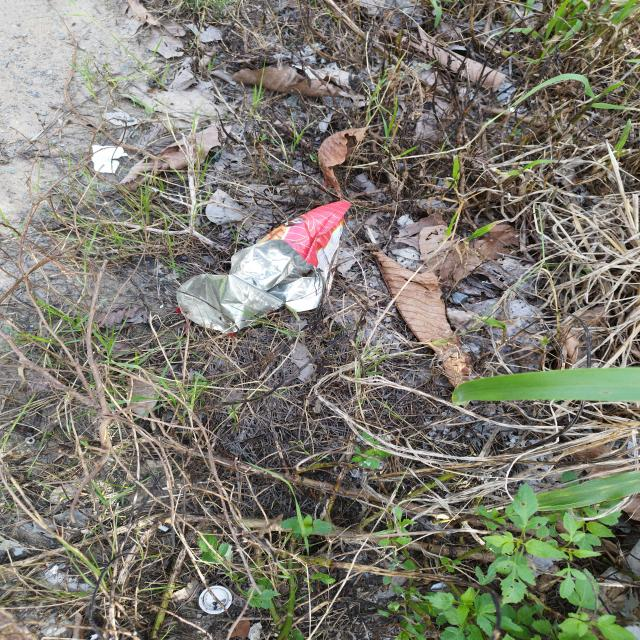snack package: (175, 199, 351, 337)
